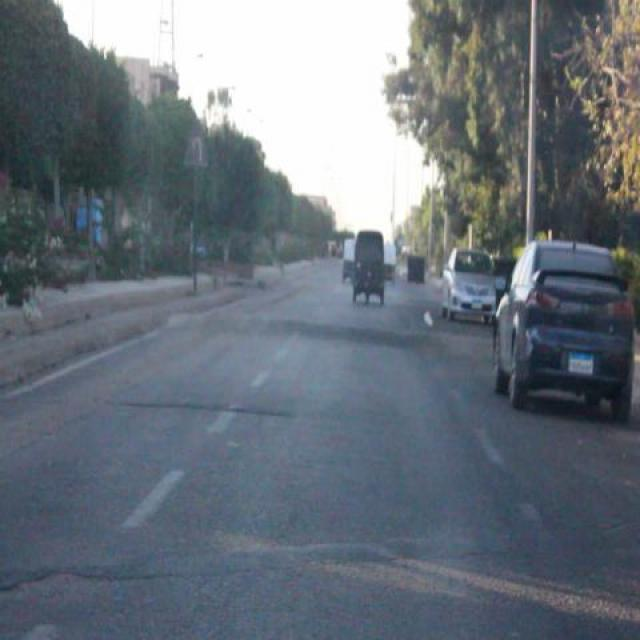Unmarked Bump: (0, 530, 515, 581), (170, 313, 497, 363)
